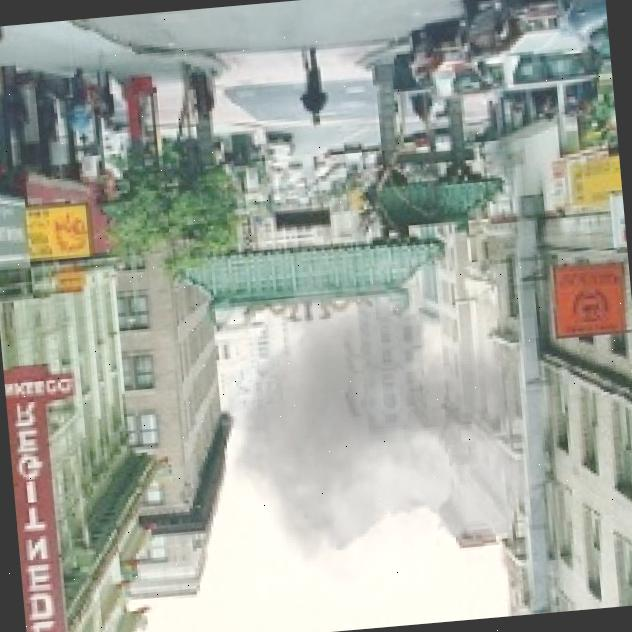smoke: (187, 220, 577, 632)
